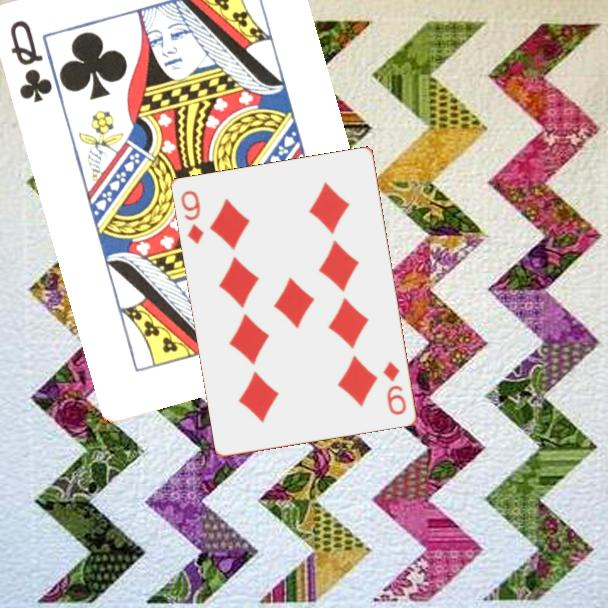c12: (6, 16, 55, 105)
d09: (380, 358, 410, 418), (178, 187, 207, 247)
